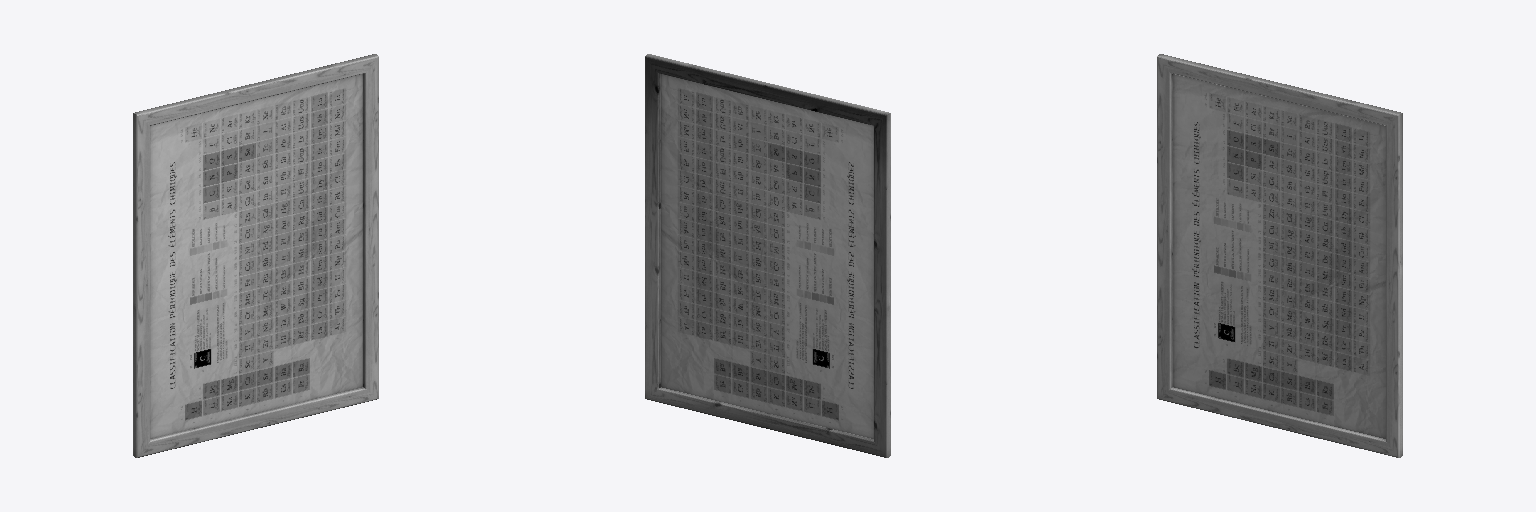
3 views of the same model, side by side, from view 1: azimuth 30°, elevation 25°; view 2: azimuth 150°, elevation 25°; view 3: azimuth 330°, elevation 25° (orthographic).
Parts seen in each view (by area): view 1: board; view 2: board; view 3: board.
Boxes of the visible parts, <box> form: board: <box>133,54,378,457</box>; board: <box>645,54,890,457</box>; board: <box>1157,54,1402,457</box>.
Size of the model in its own units: 2171 by 2941 by 61.6.
Materials: 1 (1 with a texture image).